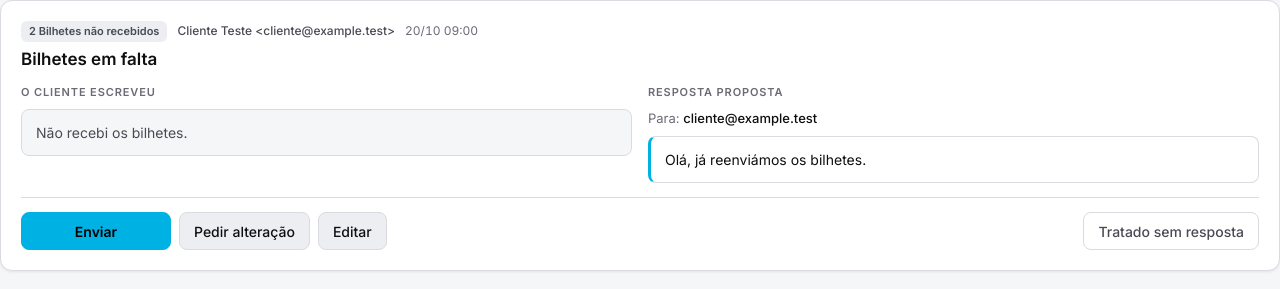
Scenario: DraftCard › arms only one of Enviar and Tratado sem resposta at a time, and the page hears it
Click the button "Enviar".
click(96, 231)  # box [21,212,171,250]
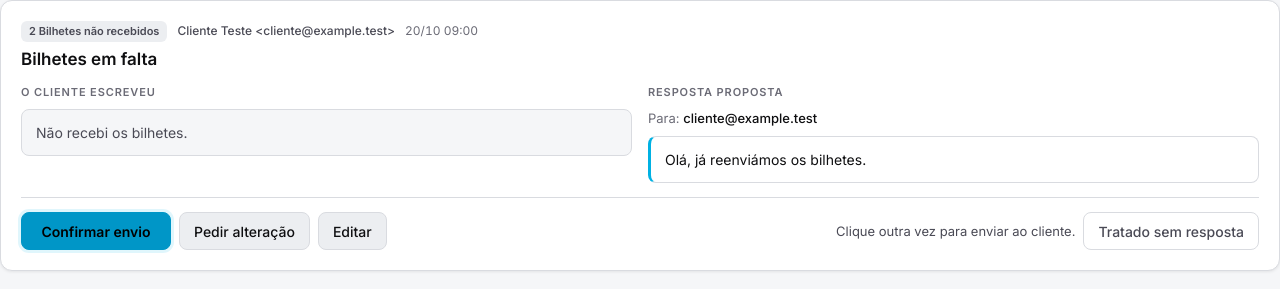
Click the button "Tratado sem resposta".
click(1171, 231)  # box [1083,212,1259,250]
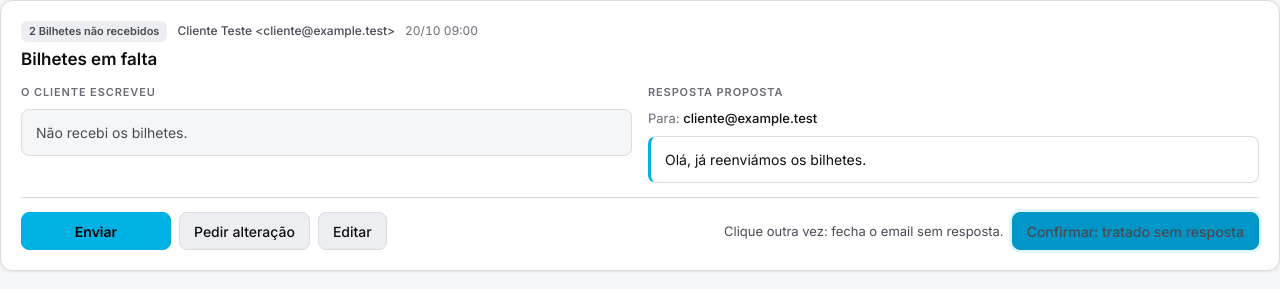
Check: the button "Enviar" is shown
Click the button "Enviar".
click(96, 231)  # box [21,212,171,250]
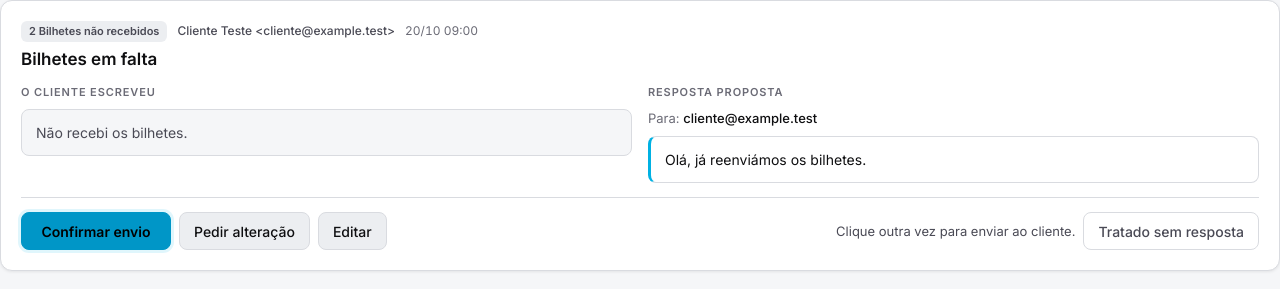
Check: the button "Tratado sem resposta" is shown, box [1083,212,1259,250]
Check: the button "Confirmar envio" is shown, box [21,212,171,250]
